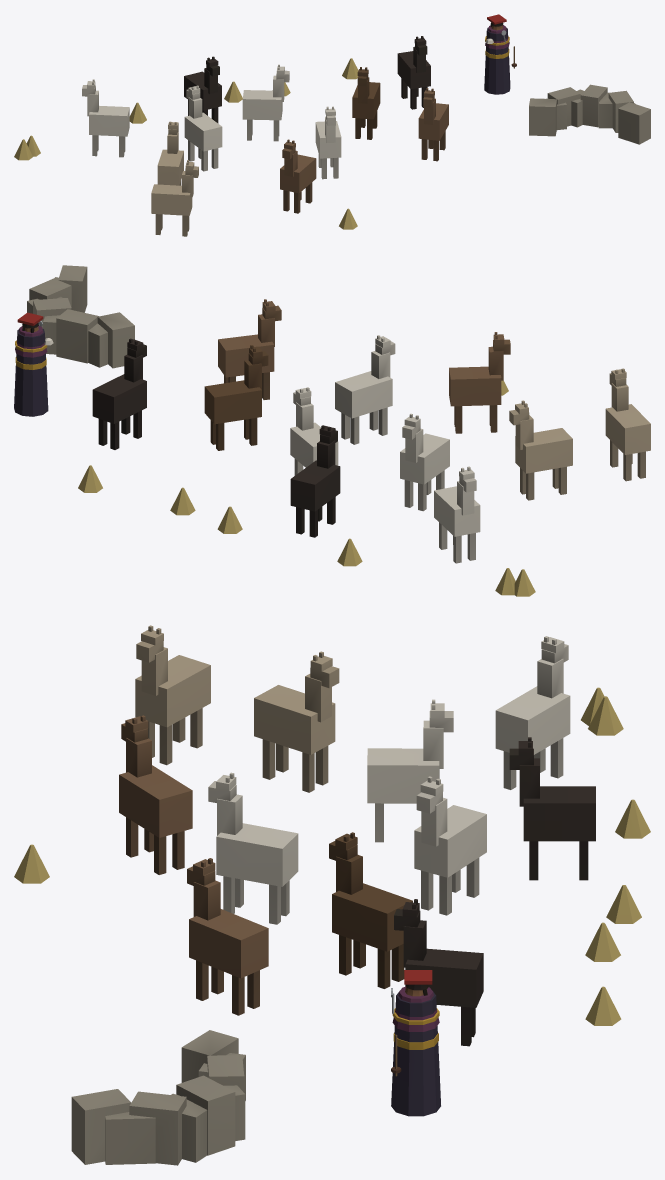
File: shepherd.glb
3 renders of one model, top to bottom at view 1: azimuth 30°, elevation 25°; view 2: azimuth 150°, elevation 25°; view 3: azimuth 270°, elevation 25°, orthographic. The views are drawn at different scales.
Parts seen in each view (by area): view 1: anim_graze, base; view 2: anim_graze, base; view 3: anim_graze, base.
Boxes of the visible parts, x1=… form: anim_graze: x1=82, y1=36, x2=448, y2=236; base: x1=14, y1=14, x2=650, y2=229; anim_graze: x1=92, y1=299, x2=650, y2=563; base: x1=14, y1=265, x2=535, y2=596; anim_graze: x1=119, y1=625, x2=595, y2=1046; base: x1=14, y1=687, x2=650, y2=1165.
Bounding box in the file's own units: 10.68 × 1.47 × 6.36.
